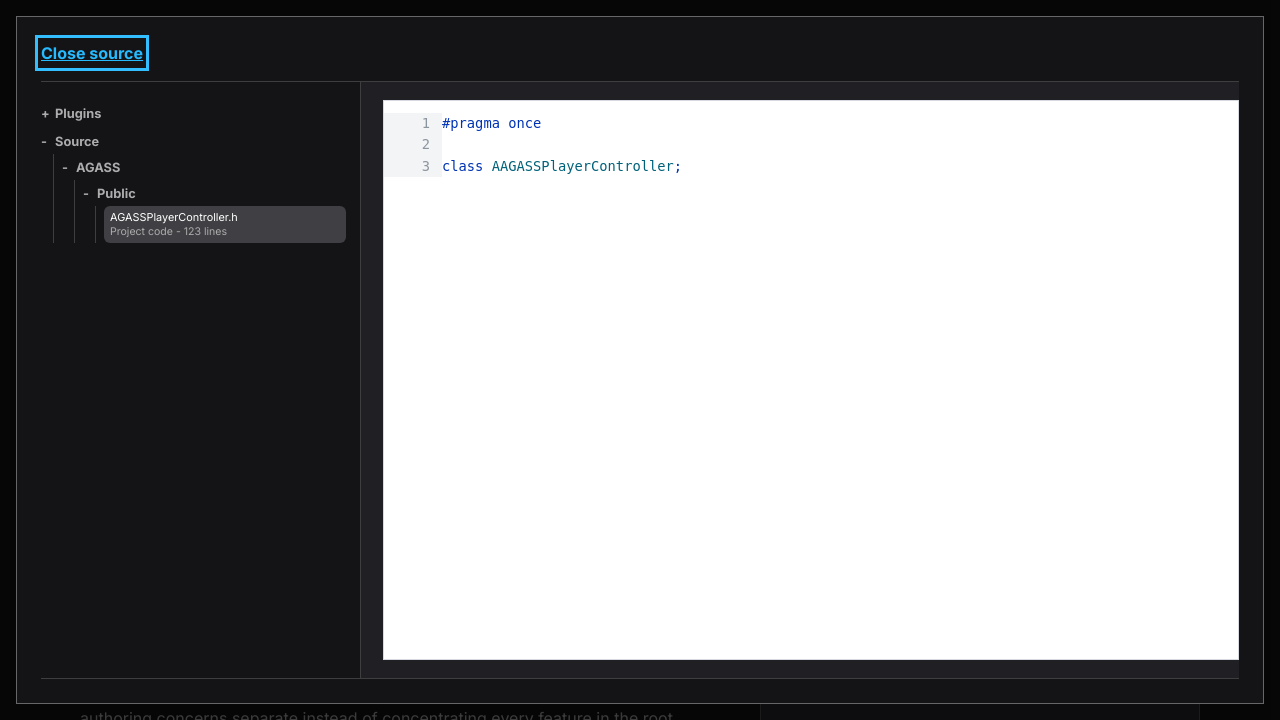
App routing › preserves source tree expansion across source address changes
Click the button with aria-label "Toggle Plugins".
click(78, 114)  # box left=41, top=103, right=346, bottom=126
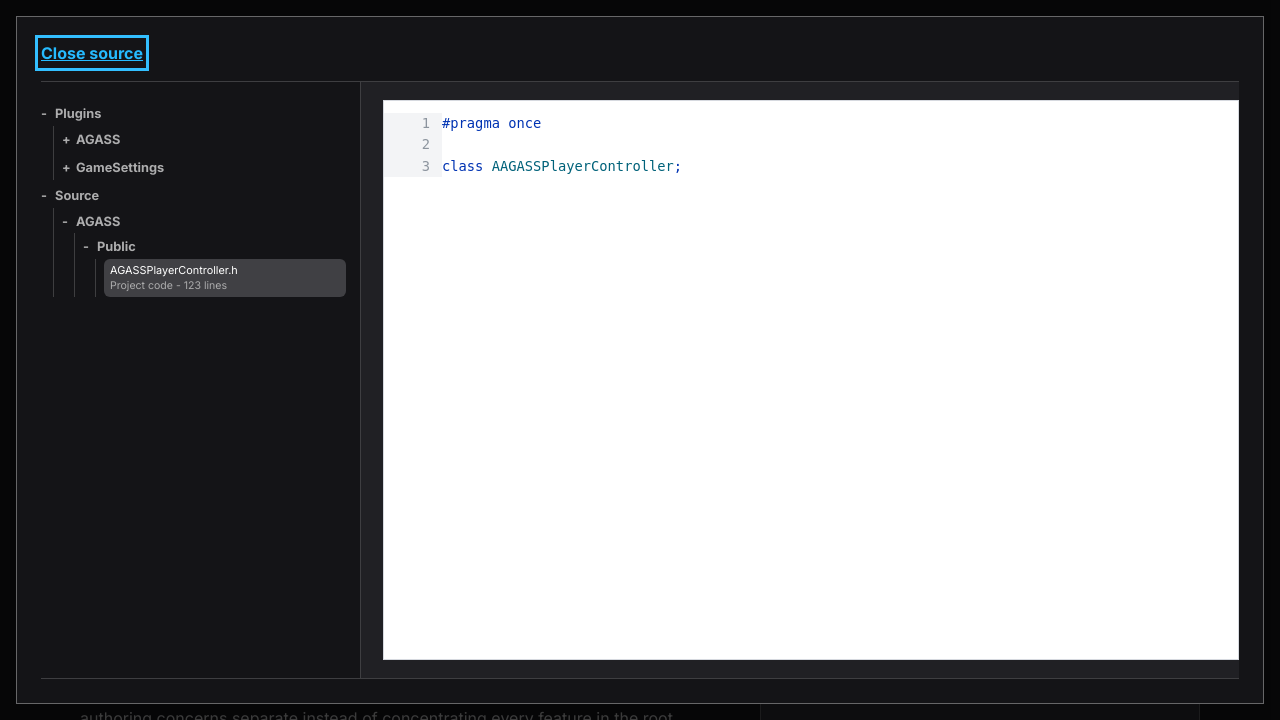
Click the button with aria-label "Toggle Plugins/GameSettings".
click(120, 167)  # box left=62, top=157, right=346, bottom=180
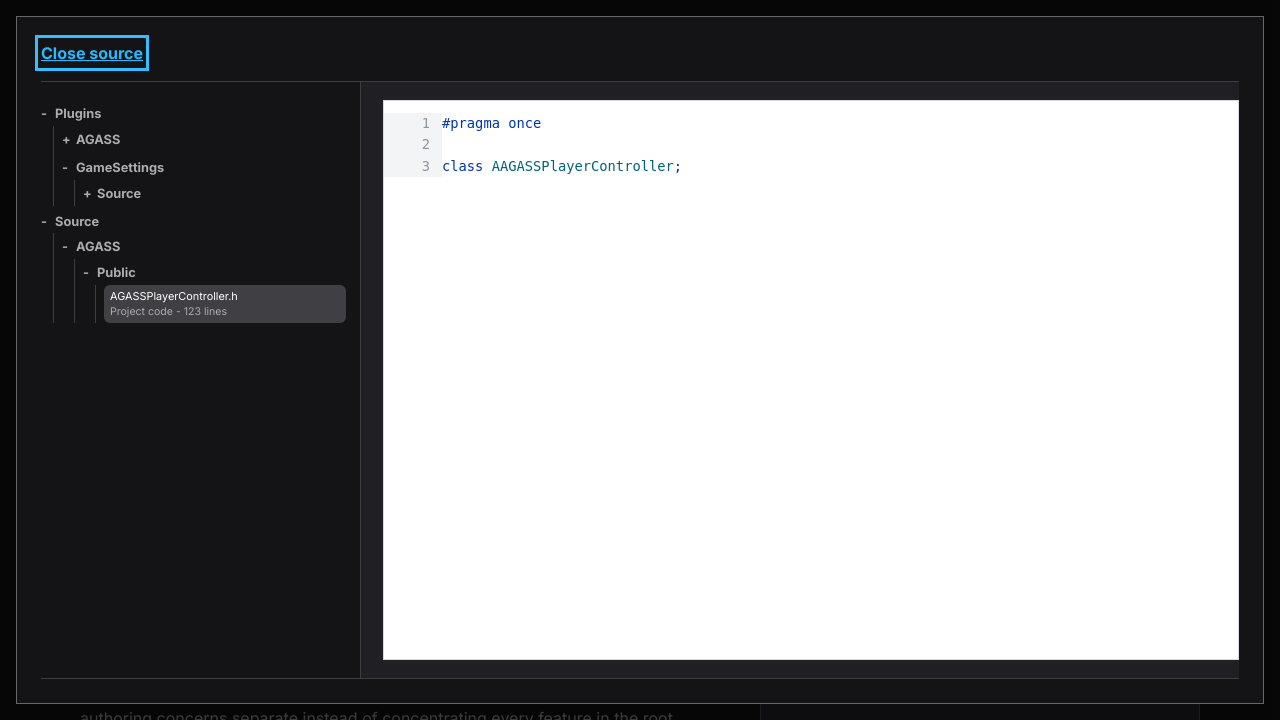
Click the button with aria-label "Toggle Plugins/GameSettings".
click(120, 167)  # box left=62, top=157, right=346, bottom=180
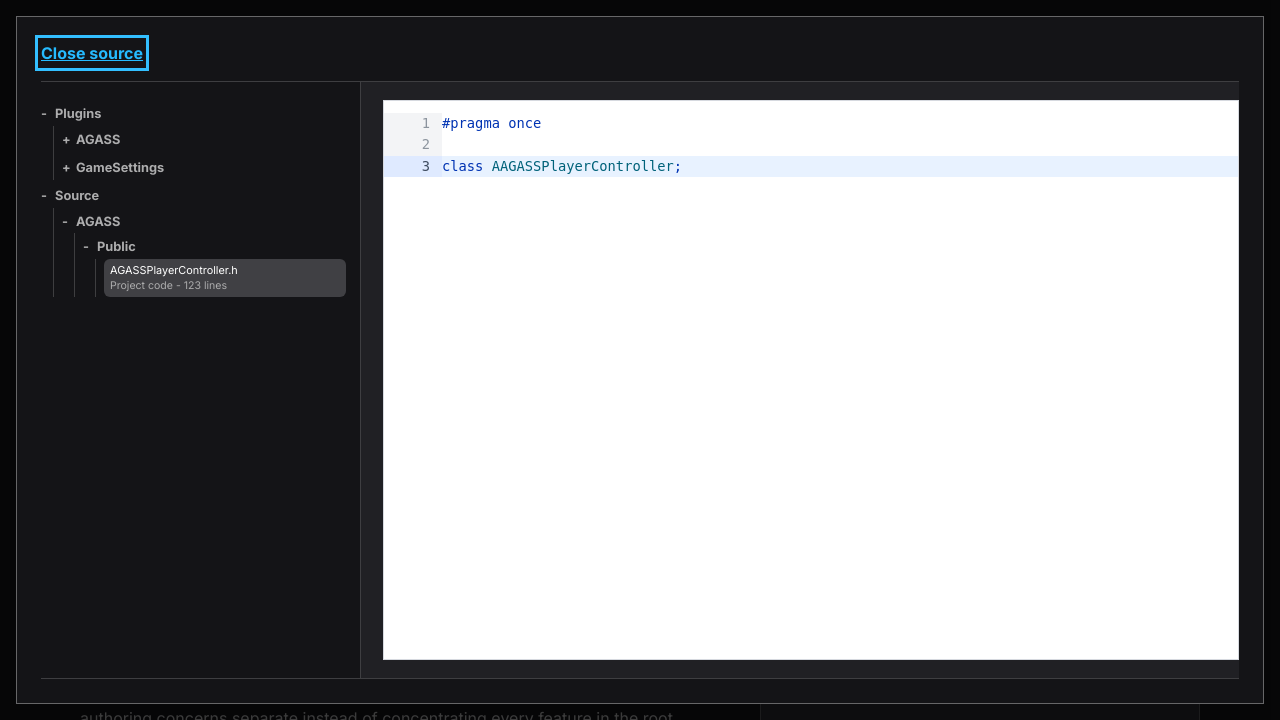
Expected: the element with class "source-line-text" showing "class AAGASSPlayerController;" is shown, left=442, top=156, right=682, bottom=177
Result: the button with aria-label "Toggle Plugins/GameSettings" is collapsed at left=62, top=157, right=346, bottom=180
